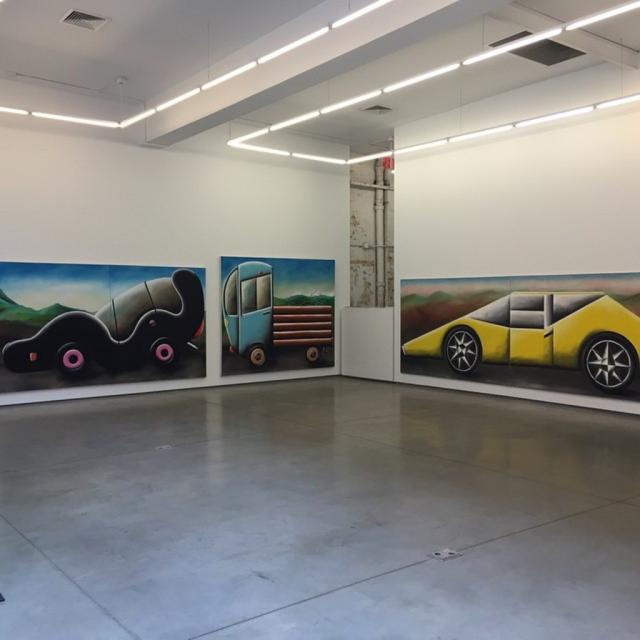car: (417, 277, 626, 389)
